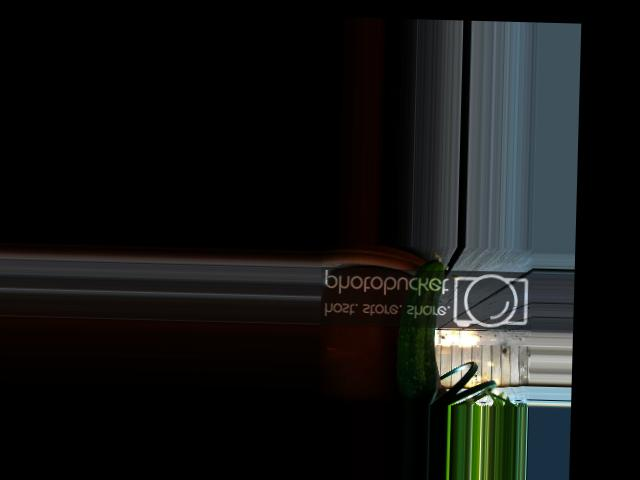cucumber: (396, 251, 445, 404)
